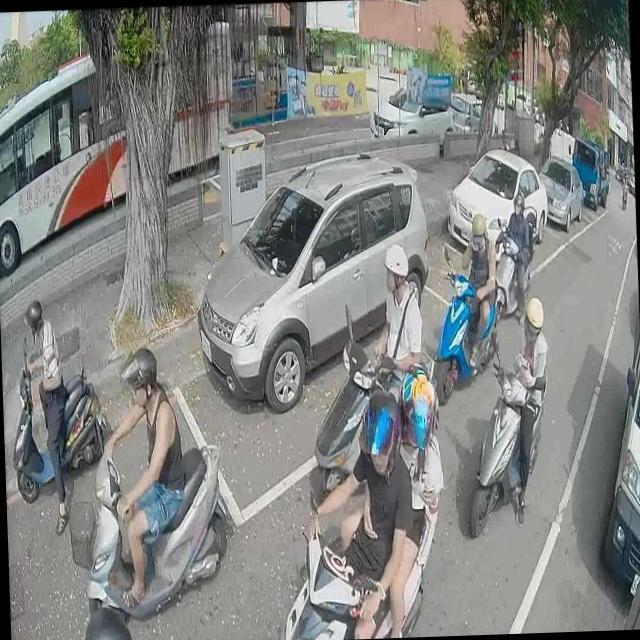person: (289, 400, 417, 640), (348, 359, 442, 638), (96, 338, 189, 614), (20, 292, 73, 532), (500, 288, 550, 526), (368, 244, 424, 398), (448, 200, 497, 368), (502, 190, 534, 312), (83, 591, 134, 640)
